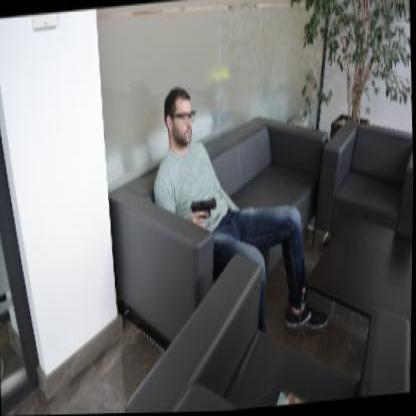pistol: (190, 195, 216, 216)
